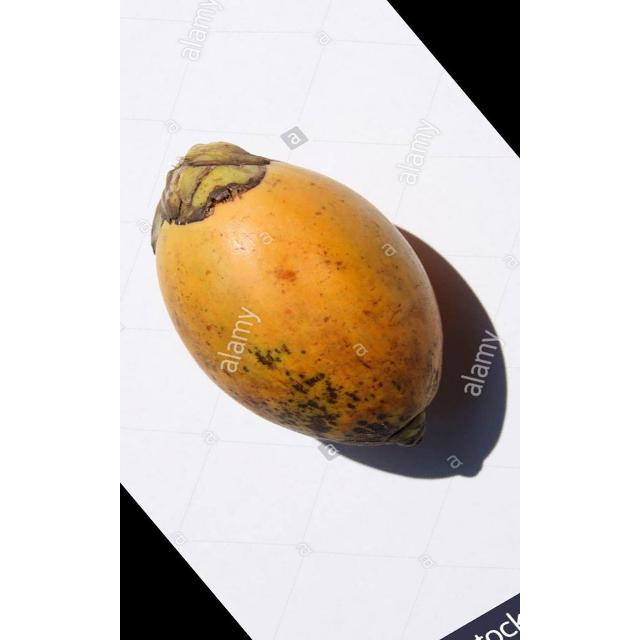good: (151, 143, 443, 445)
